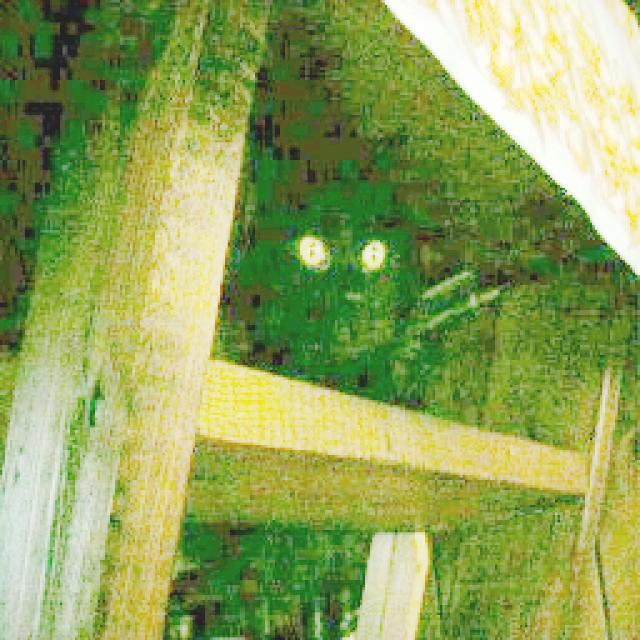cat: (181, 93, 497, 402)
